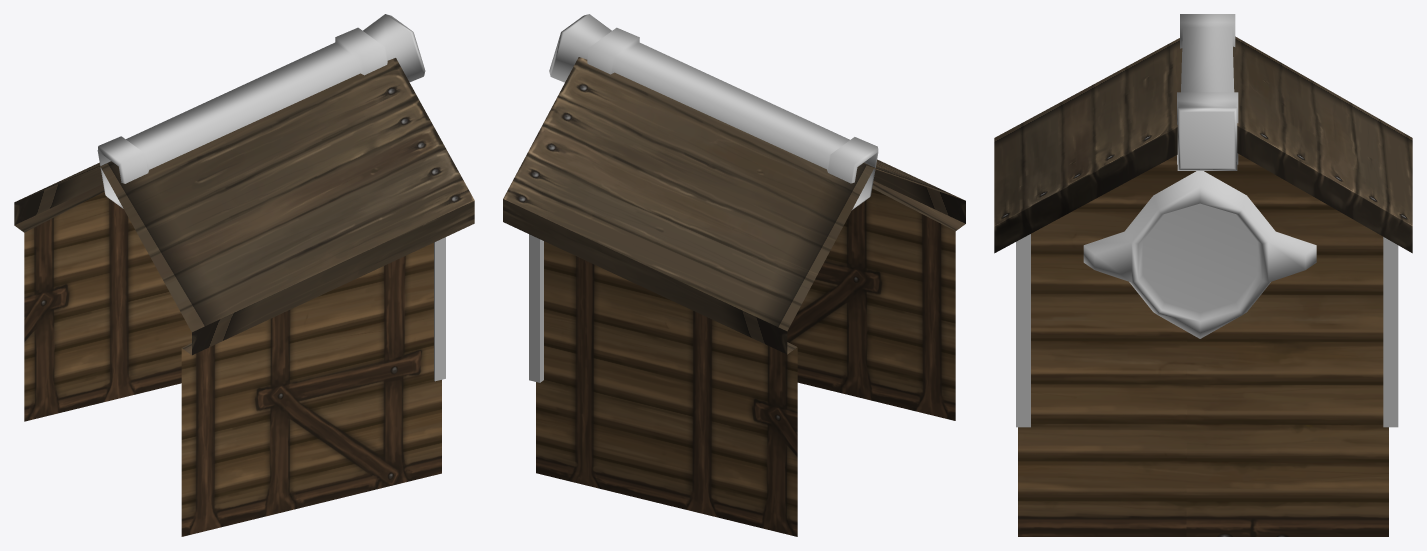
Rendered from M_WindowBox1.fbx.
3 renders of one model, left to right at view 1: azimuth 30°, elevation 25°; view 2: azimuth 150°, elevation 25°; view 3: azimuth 270°, elevation 25°, orthographic. The views are drawn at different scales.
Visible parts, largest first — view 1: M_WindowBox1; view 2: M_WindowBox1; view 3: M_WindowBox1.
Part boxes in pixels (bbox=[...]): M_WindowBox1: bbox=[14, 14, 474, 536]; M_WindowBox1: bbox=[503, 14, 965, 536]; M_WindowBox1: bbox=[994, 14, 1412, 536].
Bounding box in the file's own units: 3.26 × 3.81 × 3.21.
